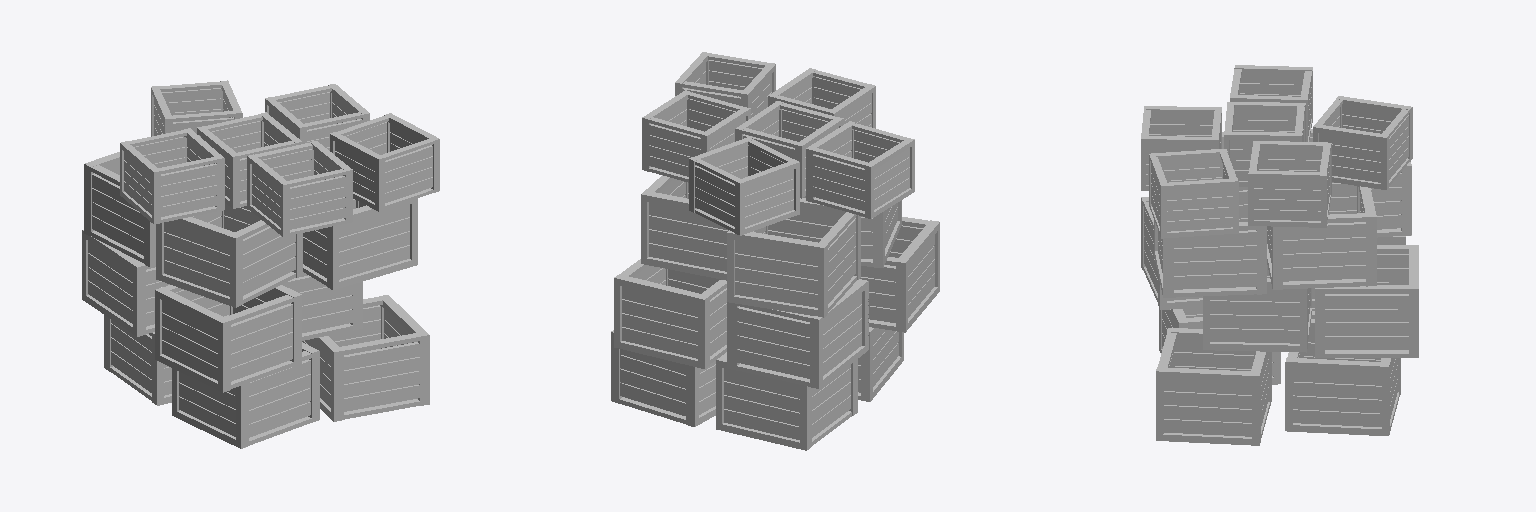
The model's file is cratestackx-.obj.
3 views of the same model, side by side, from view 1: azimuth 30°, elevation 25°; view 2: azimuth 150°, elevation 25°; view 3: azimuth 270°, elevation 25° (orthographic).
Visible parts, largest first — view 1: bedx+; view 2: bedx+; view 3: bedx+.
Boxes of the visible parts, <box> form: bedx+: <box>82,80,439,448</box>; bedx+: <box>611,52,939,450</box>; bedx+: <box>1141,65,1418,445</box>.
Size of the model in its own units: 0.9933 by 0.9942 by 0.9625.